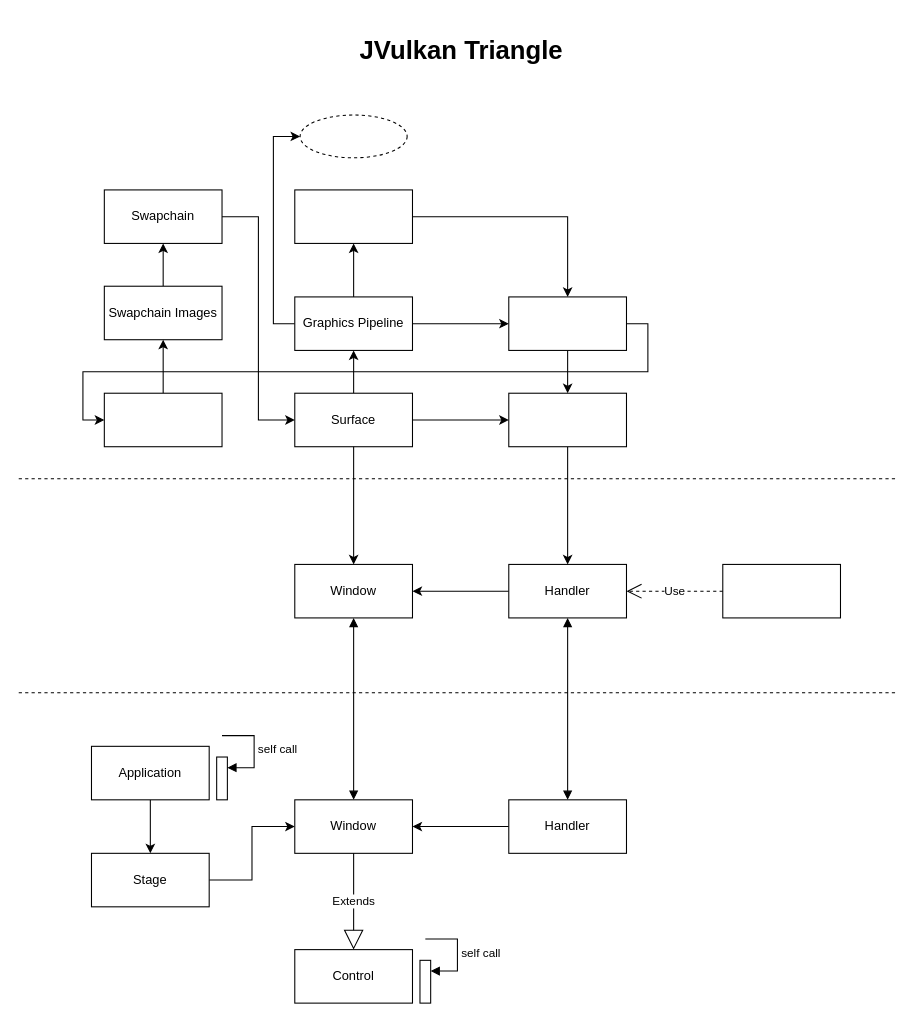
This 916x1022 diagram has some shape labels left out. Here are the shapes that lost their labels. From the top down, the centre of each, then its label:
At point (353, 136): "Shaders".
At point (353, 216): "Renderpass".
At point (567, 323): "Device".
At point (162, 419): "Framebuffers".
At point (567, 419): "VkInstance".
At point (781, 590): "Helper".
